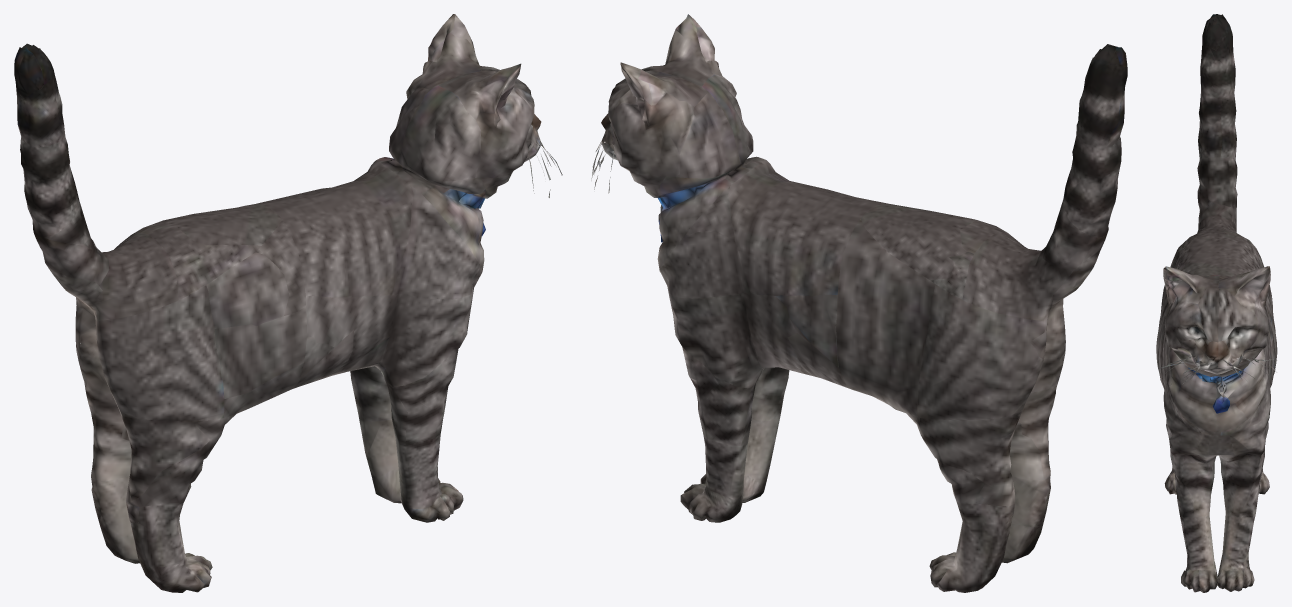
File: BROWSERCAT-lo.glb
The picture shows the model from 3 angles, left to right: view 1: azimuth 30°, elevation 25°; view 2: azimuth 150°, elevation 25°; view 3: azimuth 270°, elevation 25°; orthographic projection. The views are drawn at different scales.
Visible parts, largest first — view 1: tripo_node_5904c56a-e67d-42d6-a367-93429a6f9c1d; view 2: tripo_node_5904c56a-e67d-42d6-a367-93429a6f9c1d; view 3: tripo_node_5904c56a-e67d-42d6-a367-93429a6f9c1d.
Boxes of the visible parts, bbox=[...] form: tripo_node_5904c56a-e67d-42d6-a367-93429a6f9c1d: bbox=[14, 14, 562, 592]; tripo_node_5904c56a-e67d-42d6-a367-93429a6f9c1d: bbox=[591, 14, 1127, 592]; tripo_node_5904c56a-e67d-42d6-a367-93429a6f9c1d: bbox=[1156, 14, 1277, 592].
Bounding box in the file's own units: 0.9791 × 0.9994 × 0.2582.
Materials: 1 (1 with a texture image).
